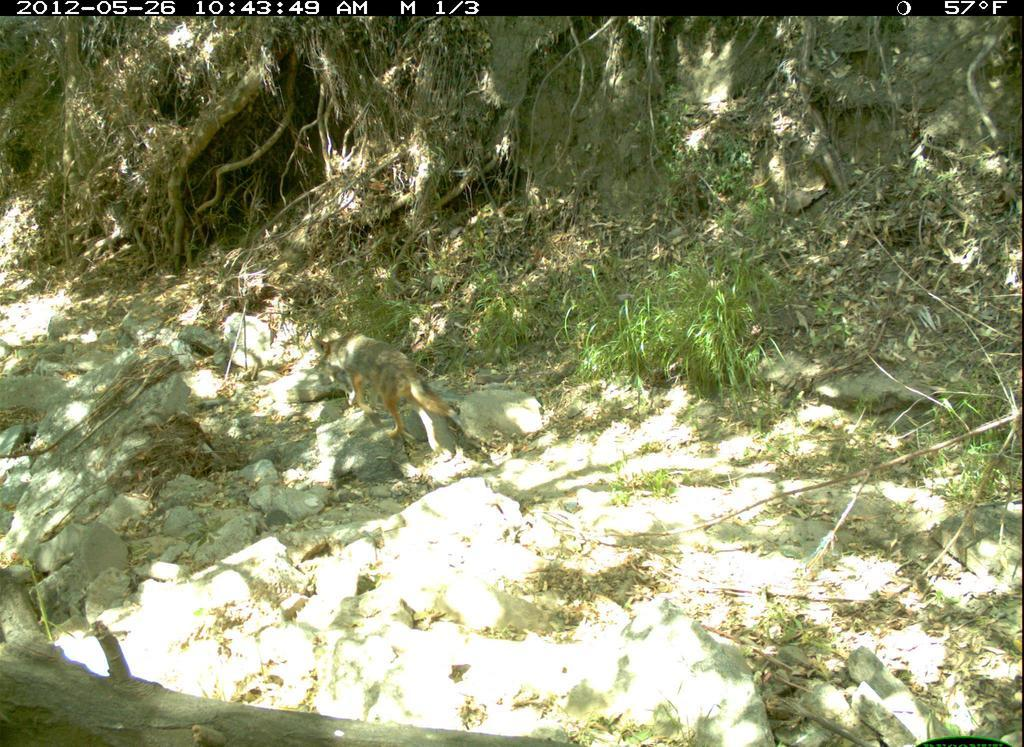coyote: (308, 328, 463, 455)
